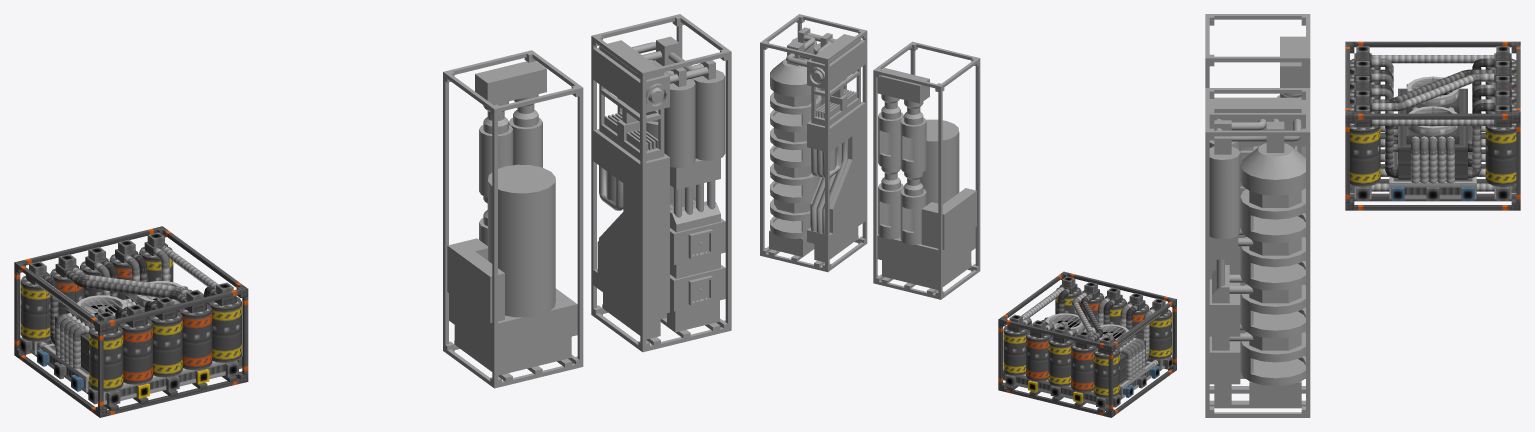
File: chemical_factory.obj
3 views of the same model, side by side, from view 1: azimuth 30°, elevation 25°; view 2: azimuth 150°, elevation 25°; view 3: azimuth 270°, elevation 25° (orthographic). The views are drawn at different scales.
Visible parts, largest first — view 1: Plane.001, Base, Frame; view 2: Plane.001, Base, Frame; view 3: Plane.001, Base, Frame.
Part boxes in pixels (box(x1,y1,x2,y2)): Plane.001: box(443, 14, 731, 388); Base: box(14, 232, 248, 417); Frame: box(14, 226, 248, 409); Plane.001: box(760, 14, 980, 299); Base: box(998, 276, 1176, 417); Frame: box(998, 271, 1176, 411); Plane.001: box(1205, 14, 1310, 417); Base: box(1345, 46, 1520, 210); Frame: box(1345, 41, 1520, 202).
Bounding box in the file's own units: 19 × 9 × 9.
